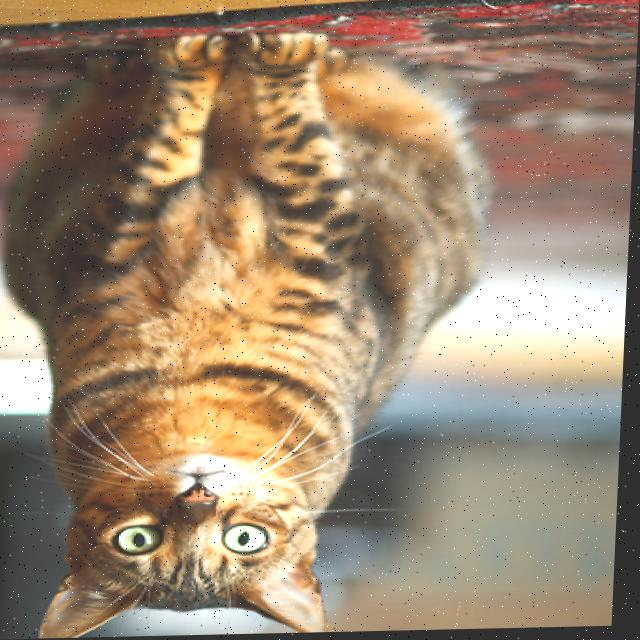Bengal: (0, 11, 513, 640)
